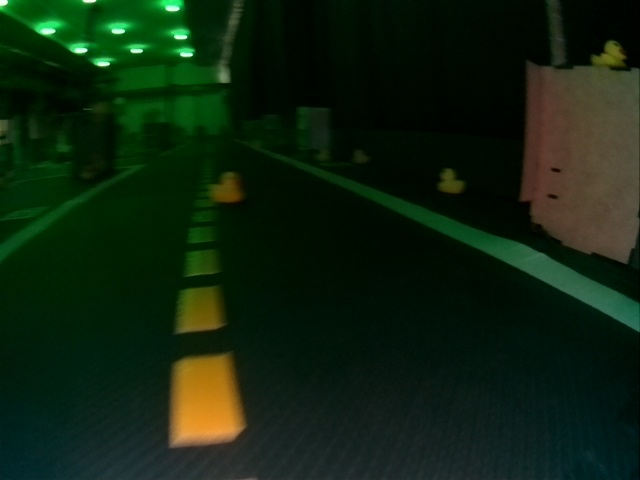Duckie: (209, 174, 243, 203), (593, 41, 627, 66), (438, 168, 465, 193)
